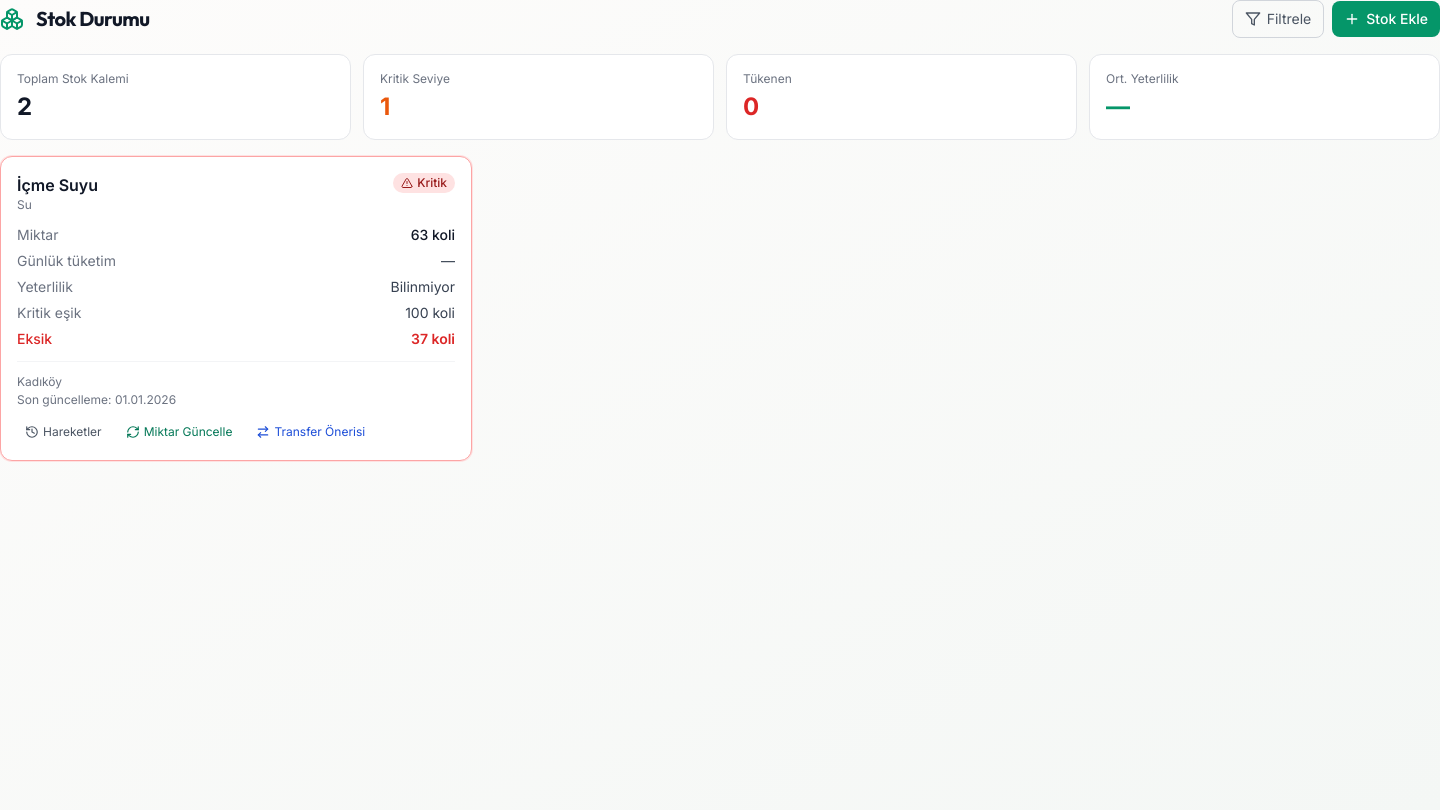
Test: StockSection — transfer suggestion › shows a no-suggestion message when none are available
Click the button "Transfer Önerisi". click: point(311, 432)
box: [248,420,373,444]
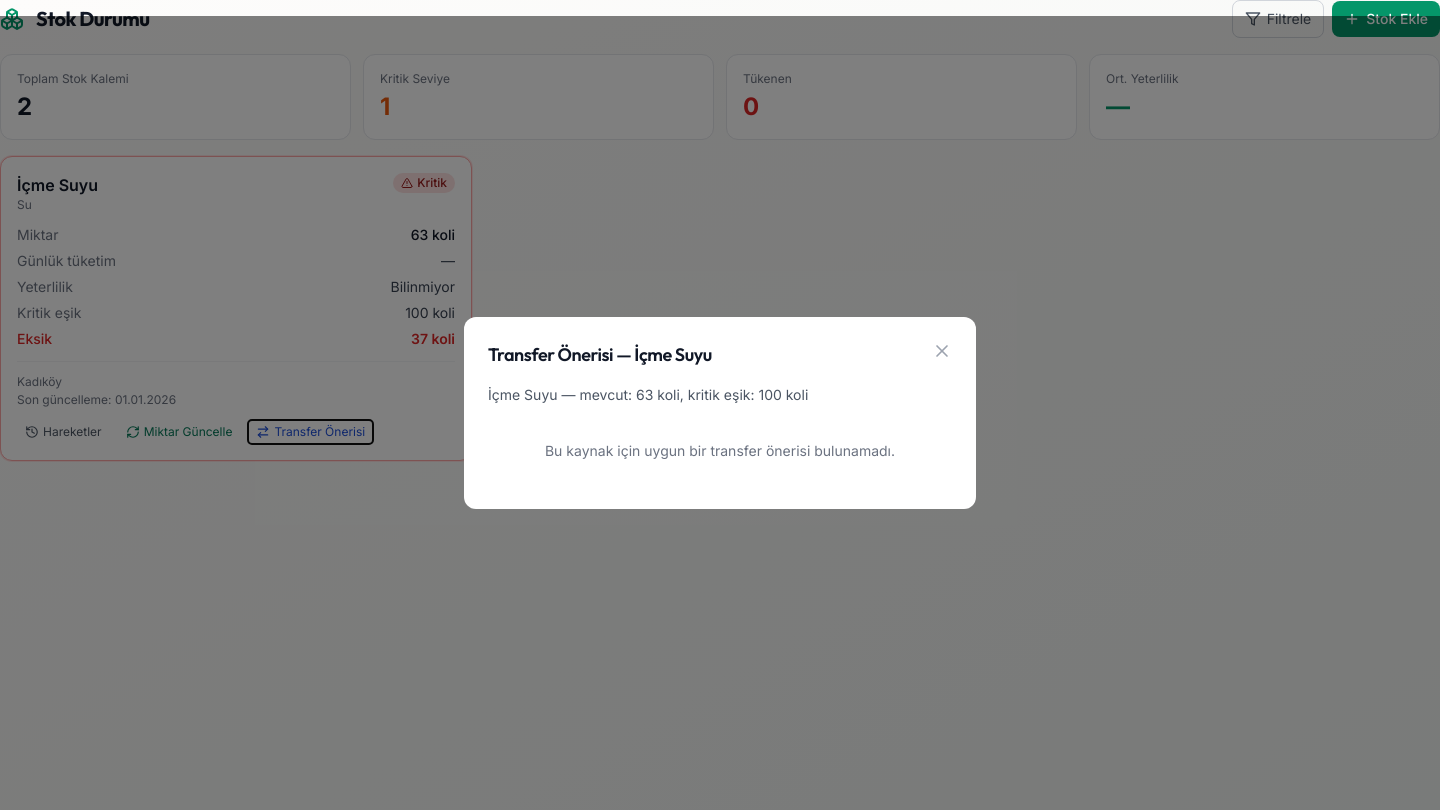
Expected: the text "Bu kaynak için uygun bir transfer önerisi bulunamadı." is shown, [545,442,895,459]
